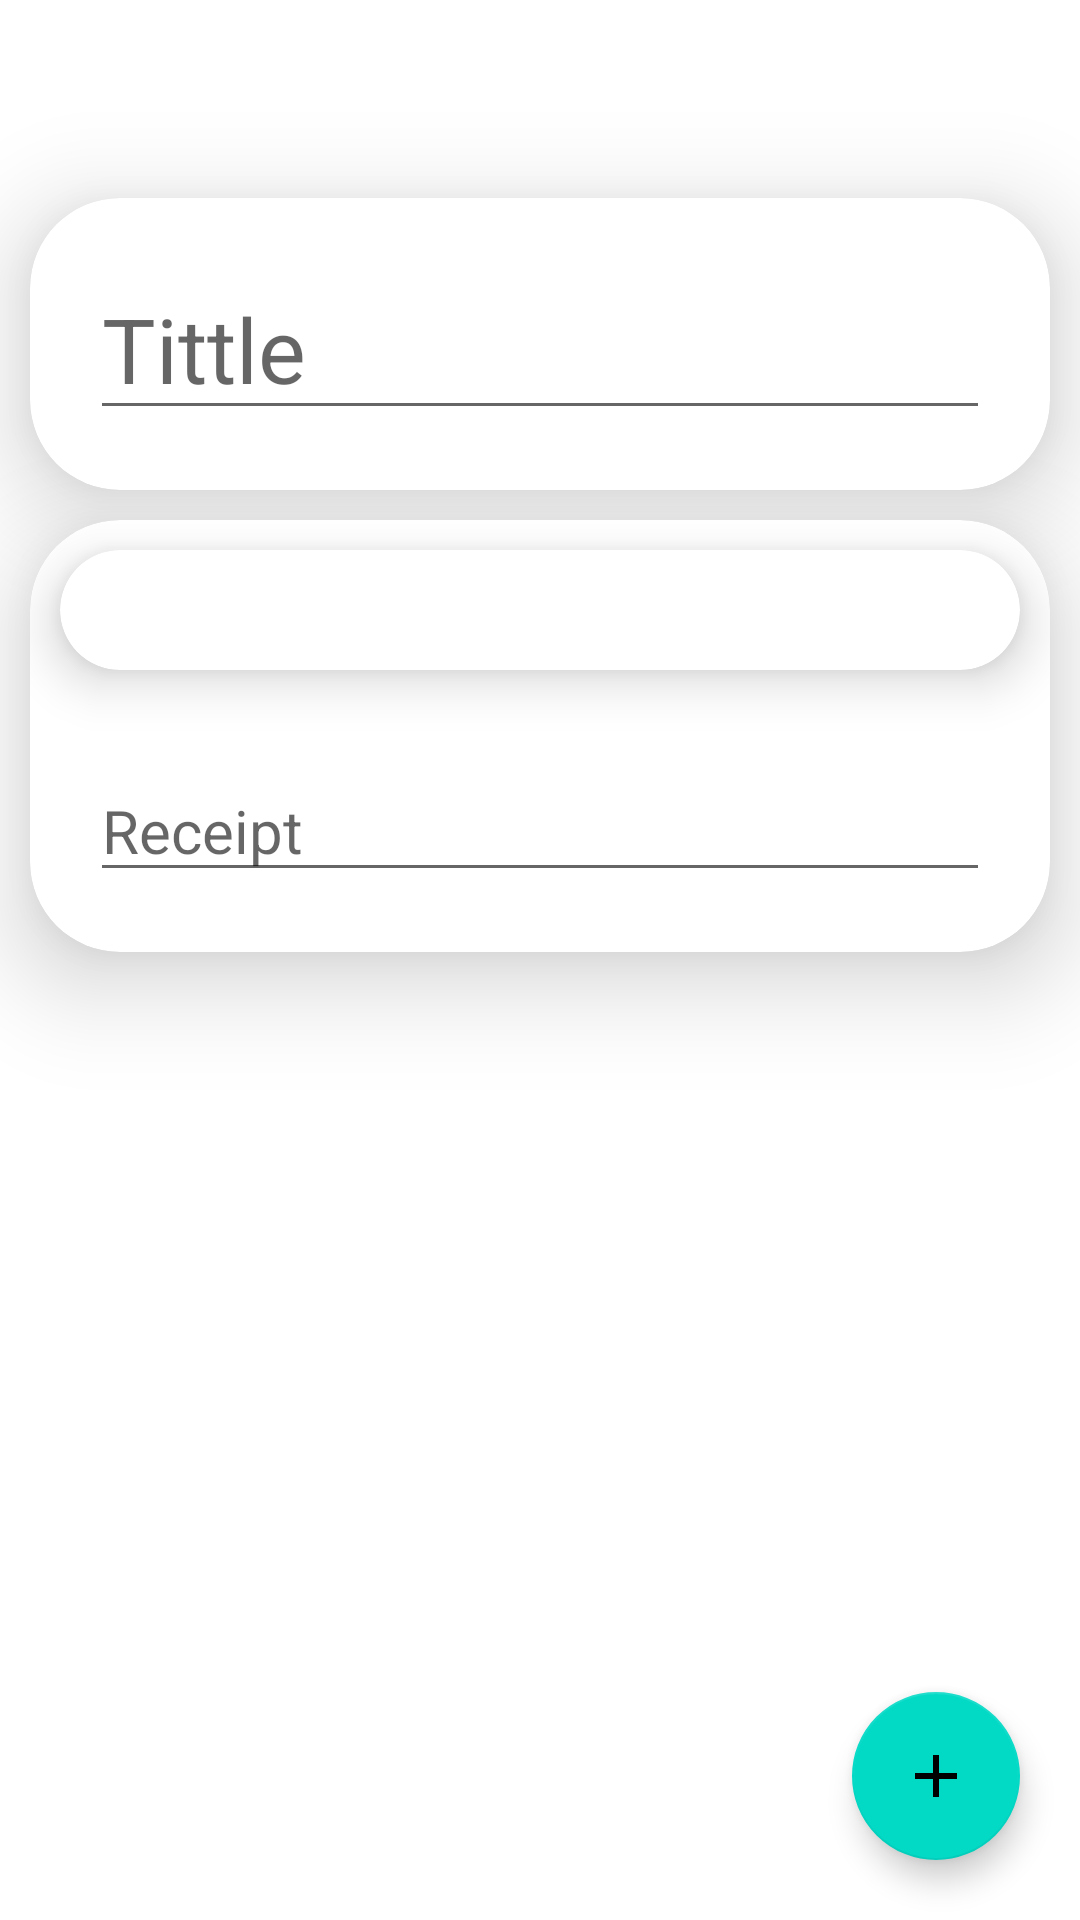

Screen size 1080*1920. Icon name, then its box in pixels as (x1,y1,x2,y2):
add product: (852,1692,1020,1860)
